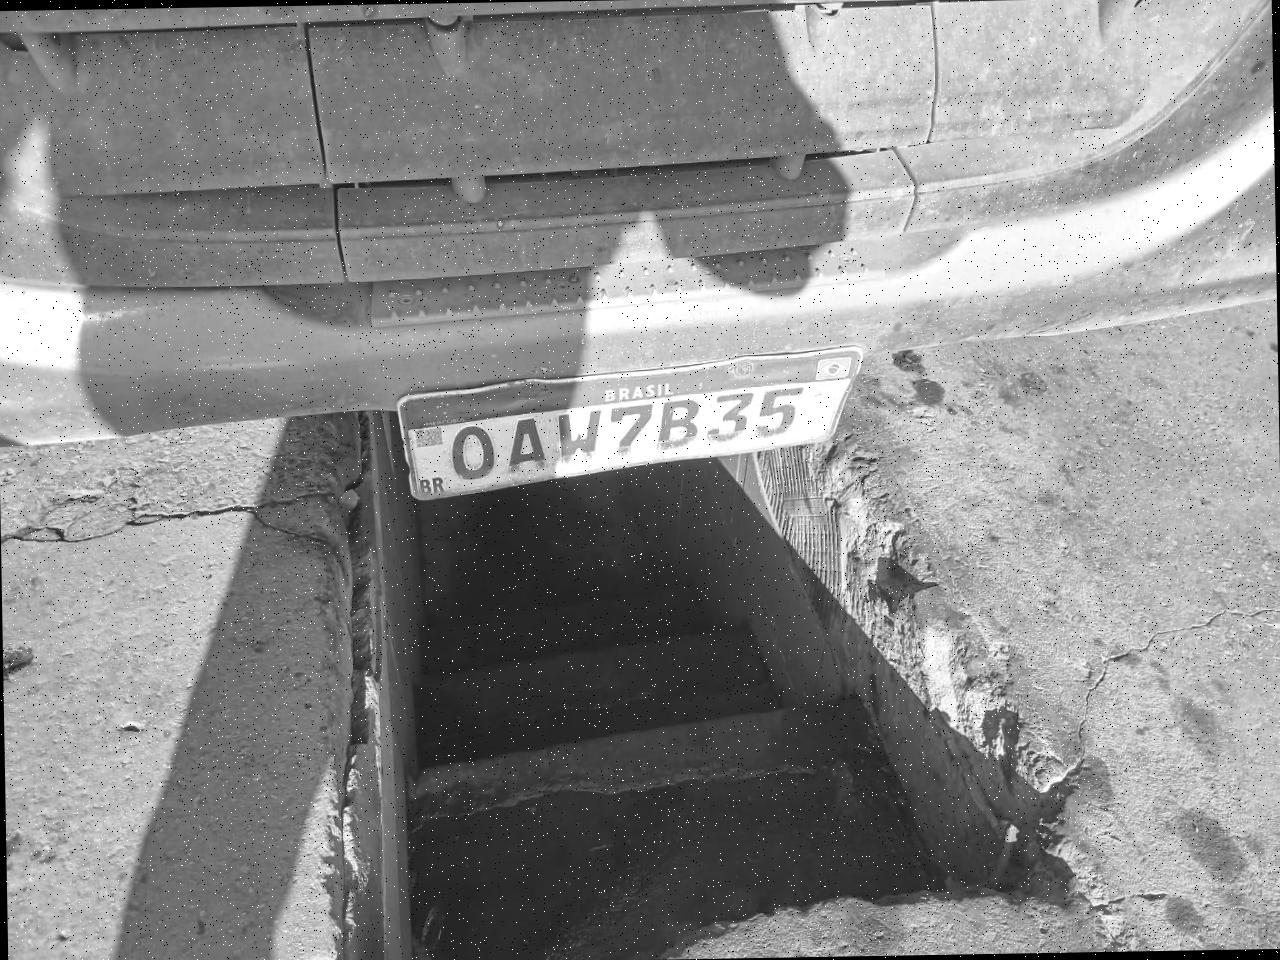placa_mercosul: (401, 345, 863, 503)
